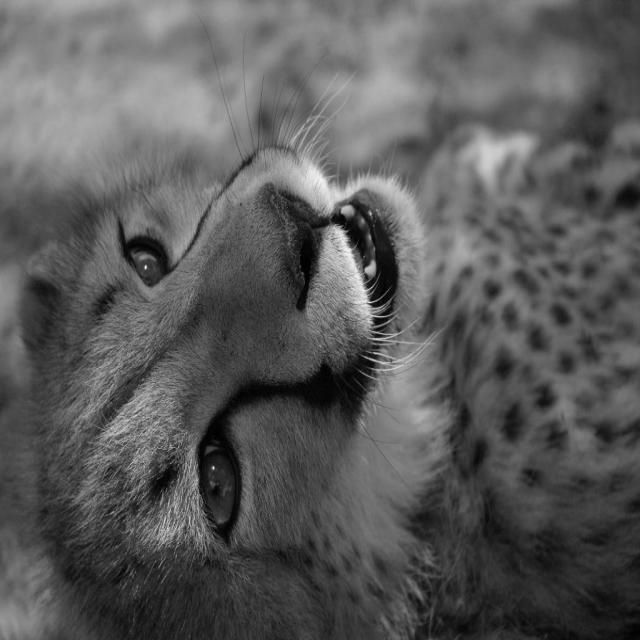Cheetah: (2, 16, 640, 639)
